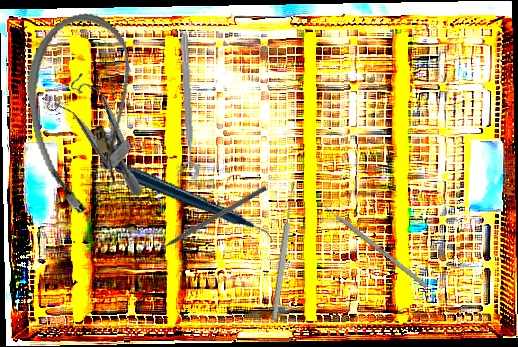Cannula: (15, 7, 154, 220)
Fixation Ring: (168, 34, 200, 181)
Handpiece: (113, 116, 274, 292)
Hook Surgical: (146, 184, 268, 259)
Pusher: (312, 196, 429, 289)
Speculum: (32, 63, 176, 199)
Surgical Spoon: (270, 181, 298, 321)
